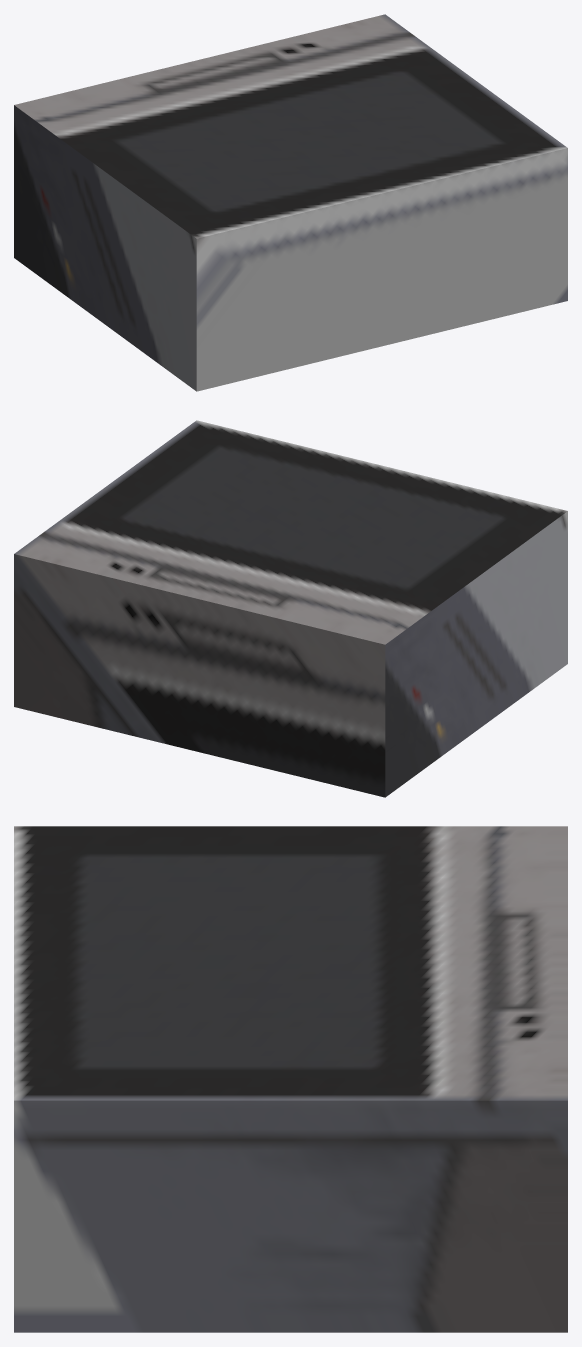
Rendered from pz_house_tv_premium.obj.
3 renders of one model, top to bottom at view 1: azimuth 30°, elevation 25°; view 2: azimuth 150°, elevation 25°; view 3: azimuth 270°, elevation 25°, orthographic. The views are drawn at different scales.
Visible parts, largest first — view 1: pz_house_tv_premium_|_1_parte_1; view 2: pz_house_tv_premium_|_1_parte_1; view 3: pz_house_tv_premium_|_1_parte_1.
Part boxes in pixels (x1,y1,x2,y2): pz_house_tv_premium_|_1_parte_1: (14,14,567,391); pz_house_tv_premium_|_1_parte_1: (14,420,567,797); pz_house_tv_premium_|_1_parte_1: (14,826,567,1332).
Size of the model in its own units: 0.8877 by 0.3497 by 0.7564.
1 material, 1 textured.
